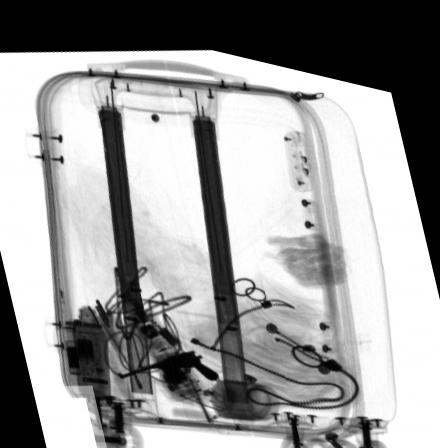Gun: (114, 341, 219, 377)
